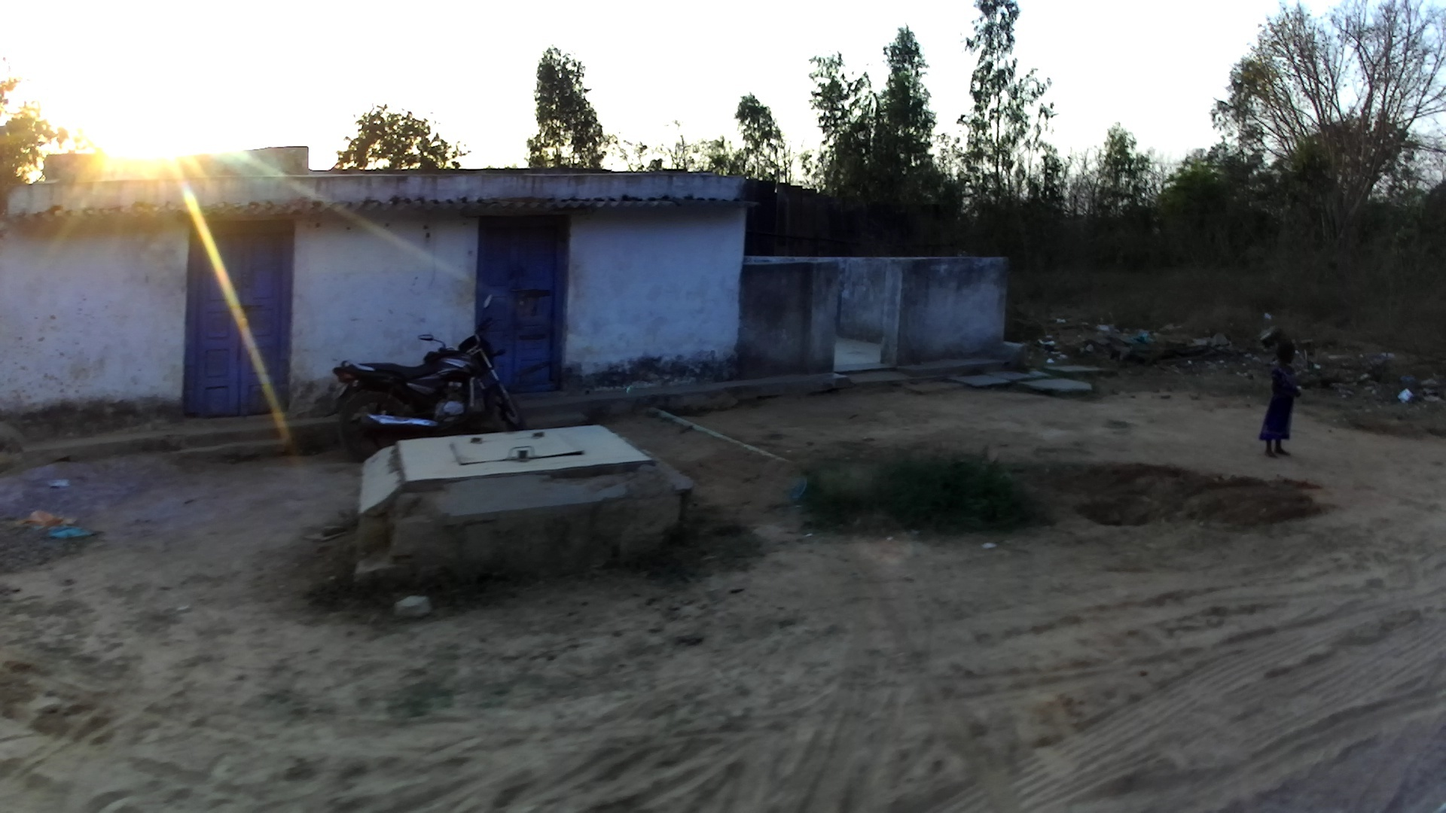motorcycle: (327, 292, 526, 464)
person: (1258, 340, 1305, 459)
